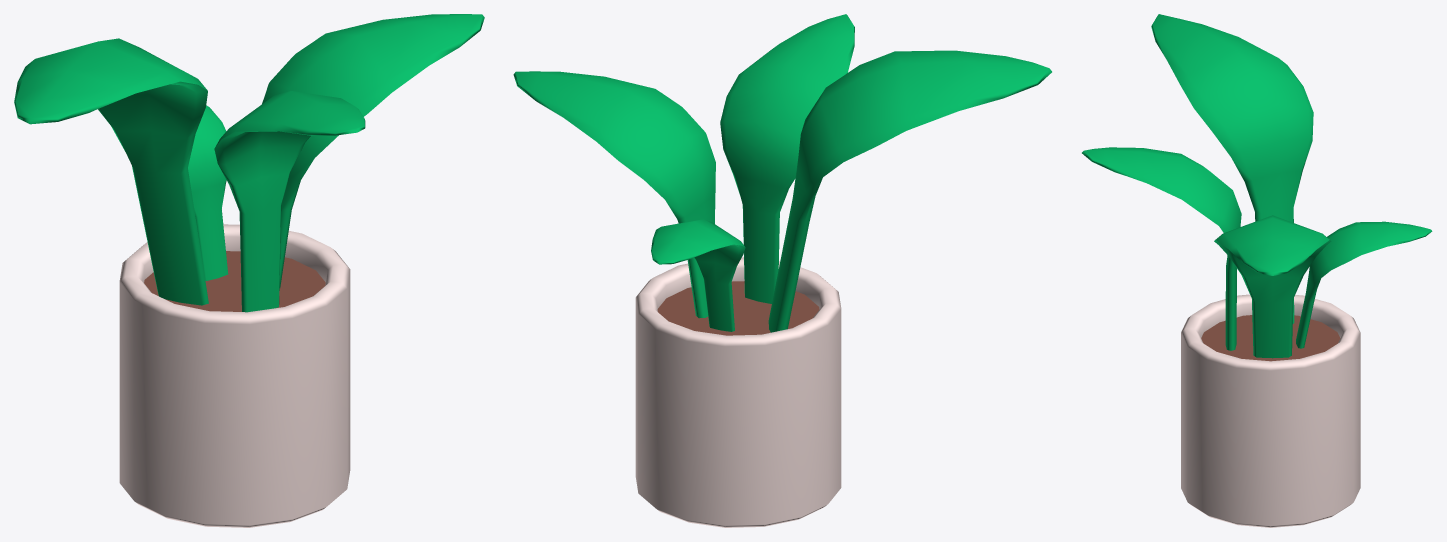
File: Store_7_Plant_1.glb
The picture shows the model from 3 angles, left to right: view 1: azimuth 30°, elevation 25°; view 2: azimuth 150°, elevation 25°; view 3: azimuth 270°, elevation 25°; orthographic projection. The views are drawn at different scales.
Parts seen in each view (by area): view 1: Store_7_Plant_1; view 2: Store_7_Plant_1; view 3: Store_7_Plant_1.
Part boxes in pixels (left/top/right/bottom): Store_7_Plant_1: left=14, top=14, right=484, bottom=527; Store_7_Plant_1: left=513, top=14, right=1051, bottom=527; Store_7_Plant_1: left=1082, top=14, right=1432, bottom=527.
Bounding box in the file's own units: 1.01 × 0.9076 × 0.7533.
1 material, 1 textured.
